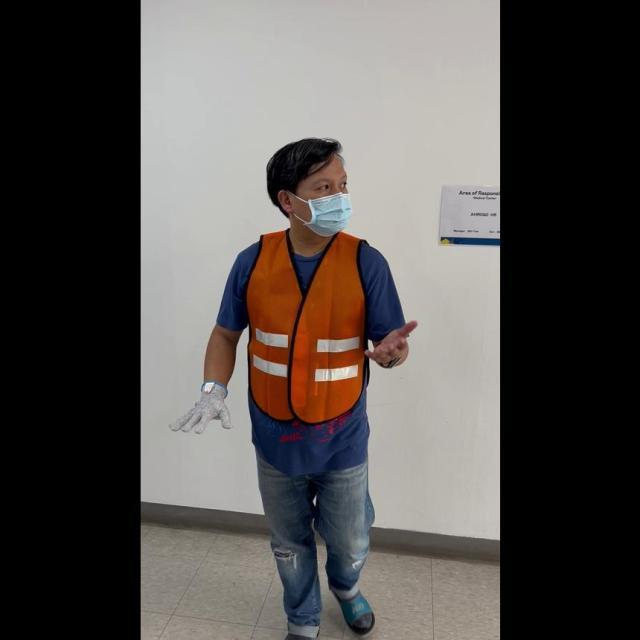bare_hand: (362, 315, 418, 370)
gloved_hand: (168, 378, 236, 436)
